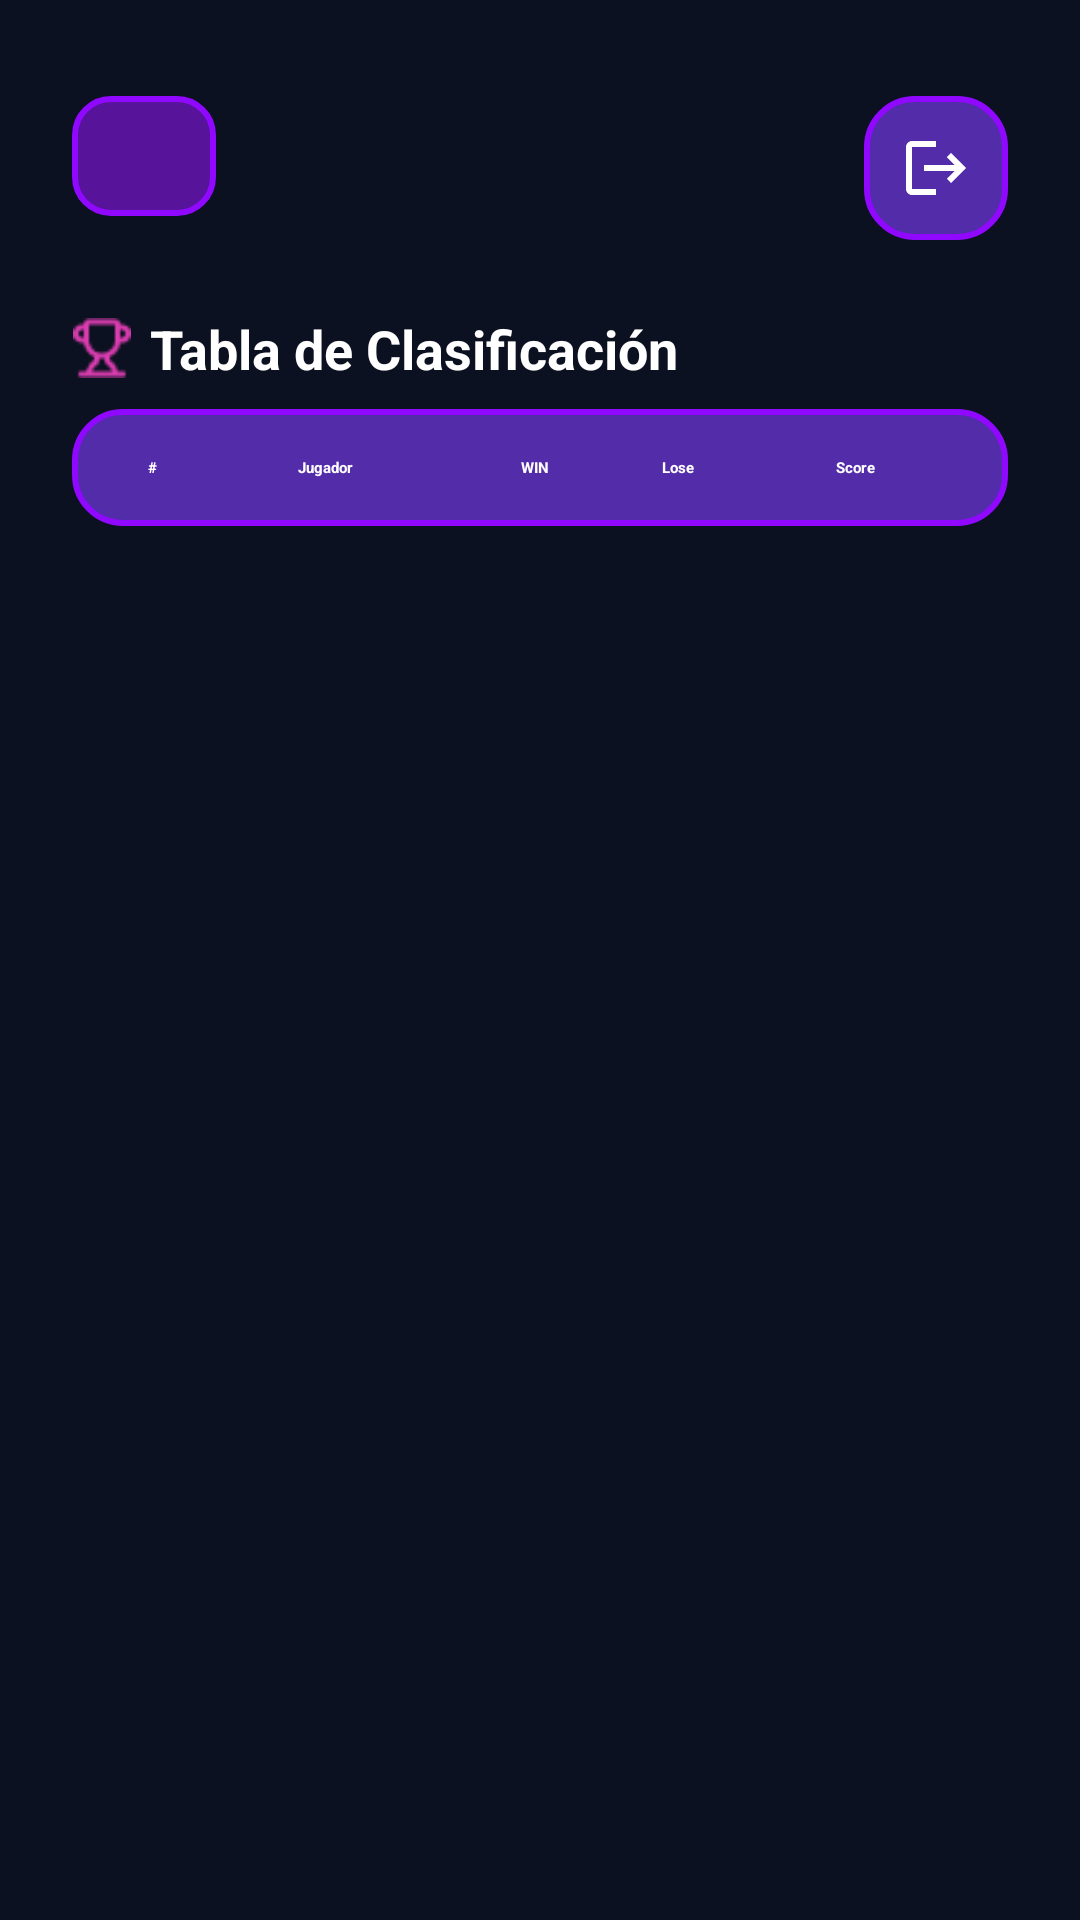

Icons on this 1080×1920 Android screen, each with its box as (x1, y1, x2, y2):
trophy: (73, 318, 131, 378)
